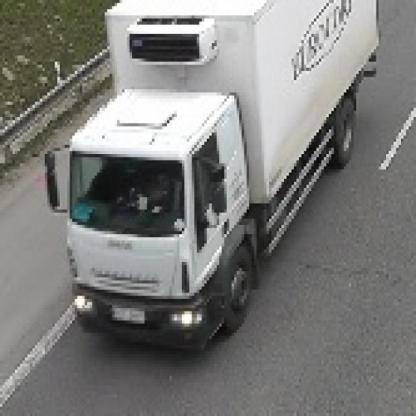truck: (49, 1, 385, 352)
